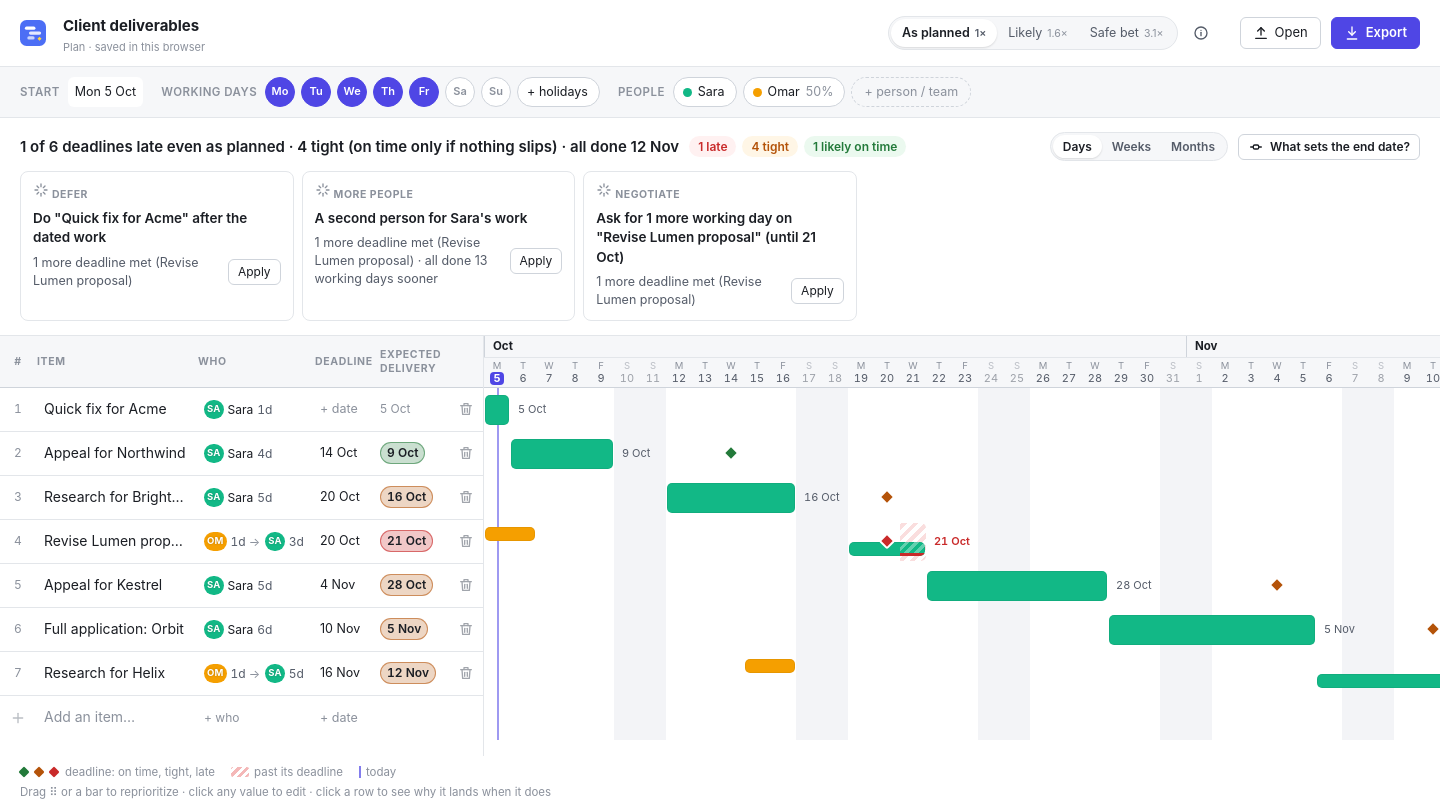
app (web and widget share it) › switching the lens re-dates the plan but never changes the input
The image size is (1452, 801).
Click the button "Likely 1.6×" at coordinates (1038, 33), box [997,19,1079,47]
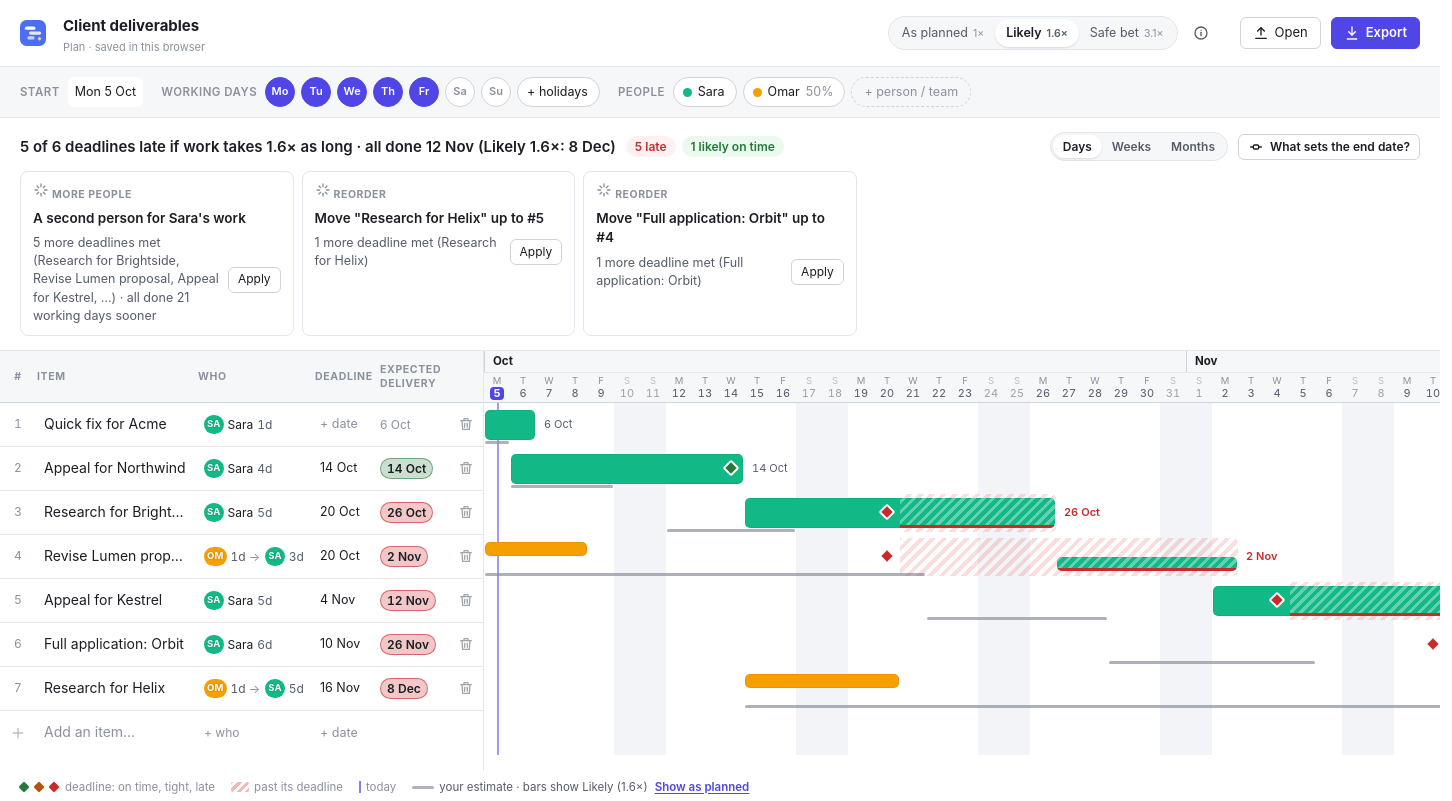
expect the element with class "headline" shows "Likely 1.6×:": met, box [20,137,616,156]
expect the 1st element with class "baseline" is shown: met, box [485,441,509,444]
